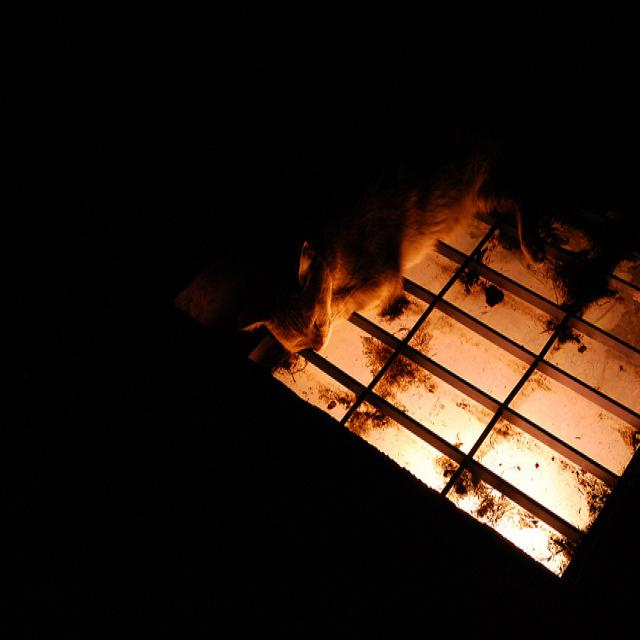Cat: (254, 161, 640, 407)
